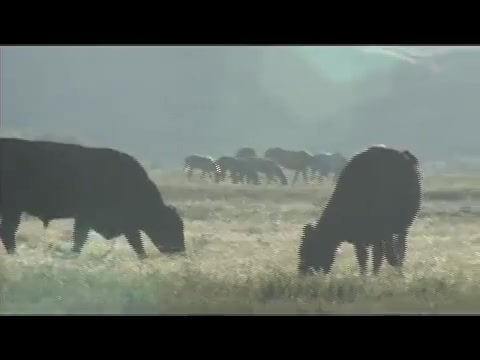cow: (1, 139, 187, 262), (299, 144, 426, 276), (270, 148, 315, 184), (181, 156, 224, 185), (217, 156, 256, 186), (248, 155, 288, 184), (312, 153, 351, 181)
